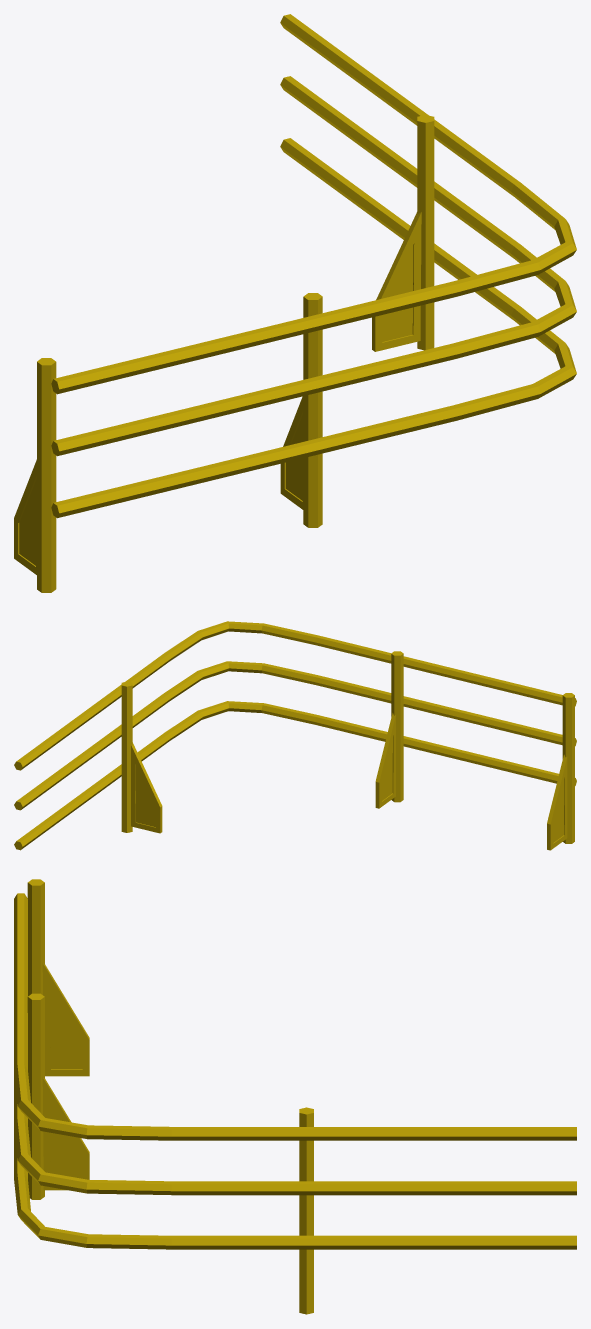
The model's file is FenceB.fbx.
3 views of the same model, one above another, from view 1: azimuth 30°, elevation 25°; view 2: azimuth 150°, elevation 25°; view 3: azimuth 270°, elevation 25° (orthographic). The views are drawn at different scales.
Parts seen in each view (by area): view 1: FenceB; view 2: FenceB; view 3: FenceB.
Part boxes in pixels (x1=…): FenceB: x1=14, y1=14, x2=576, y2=592; FenceB: x1=14, y1=621, x2=576, y2=850; FenceB: x1=14, y1=879, x2=576, y2=1314.
Size of the model in its own units: 211 by 81.64 by 208.
